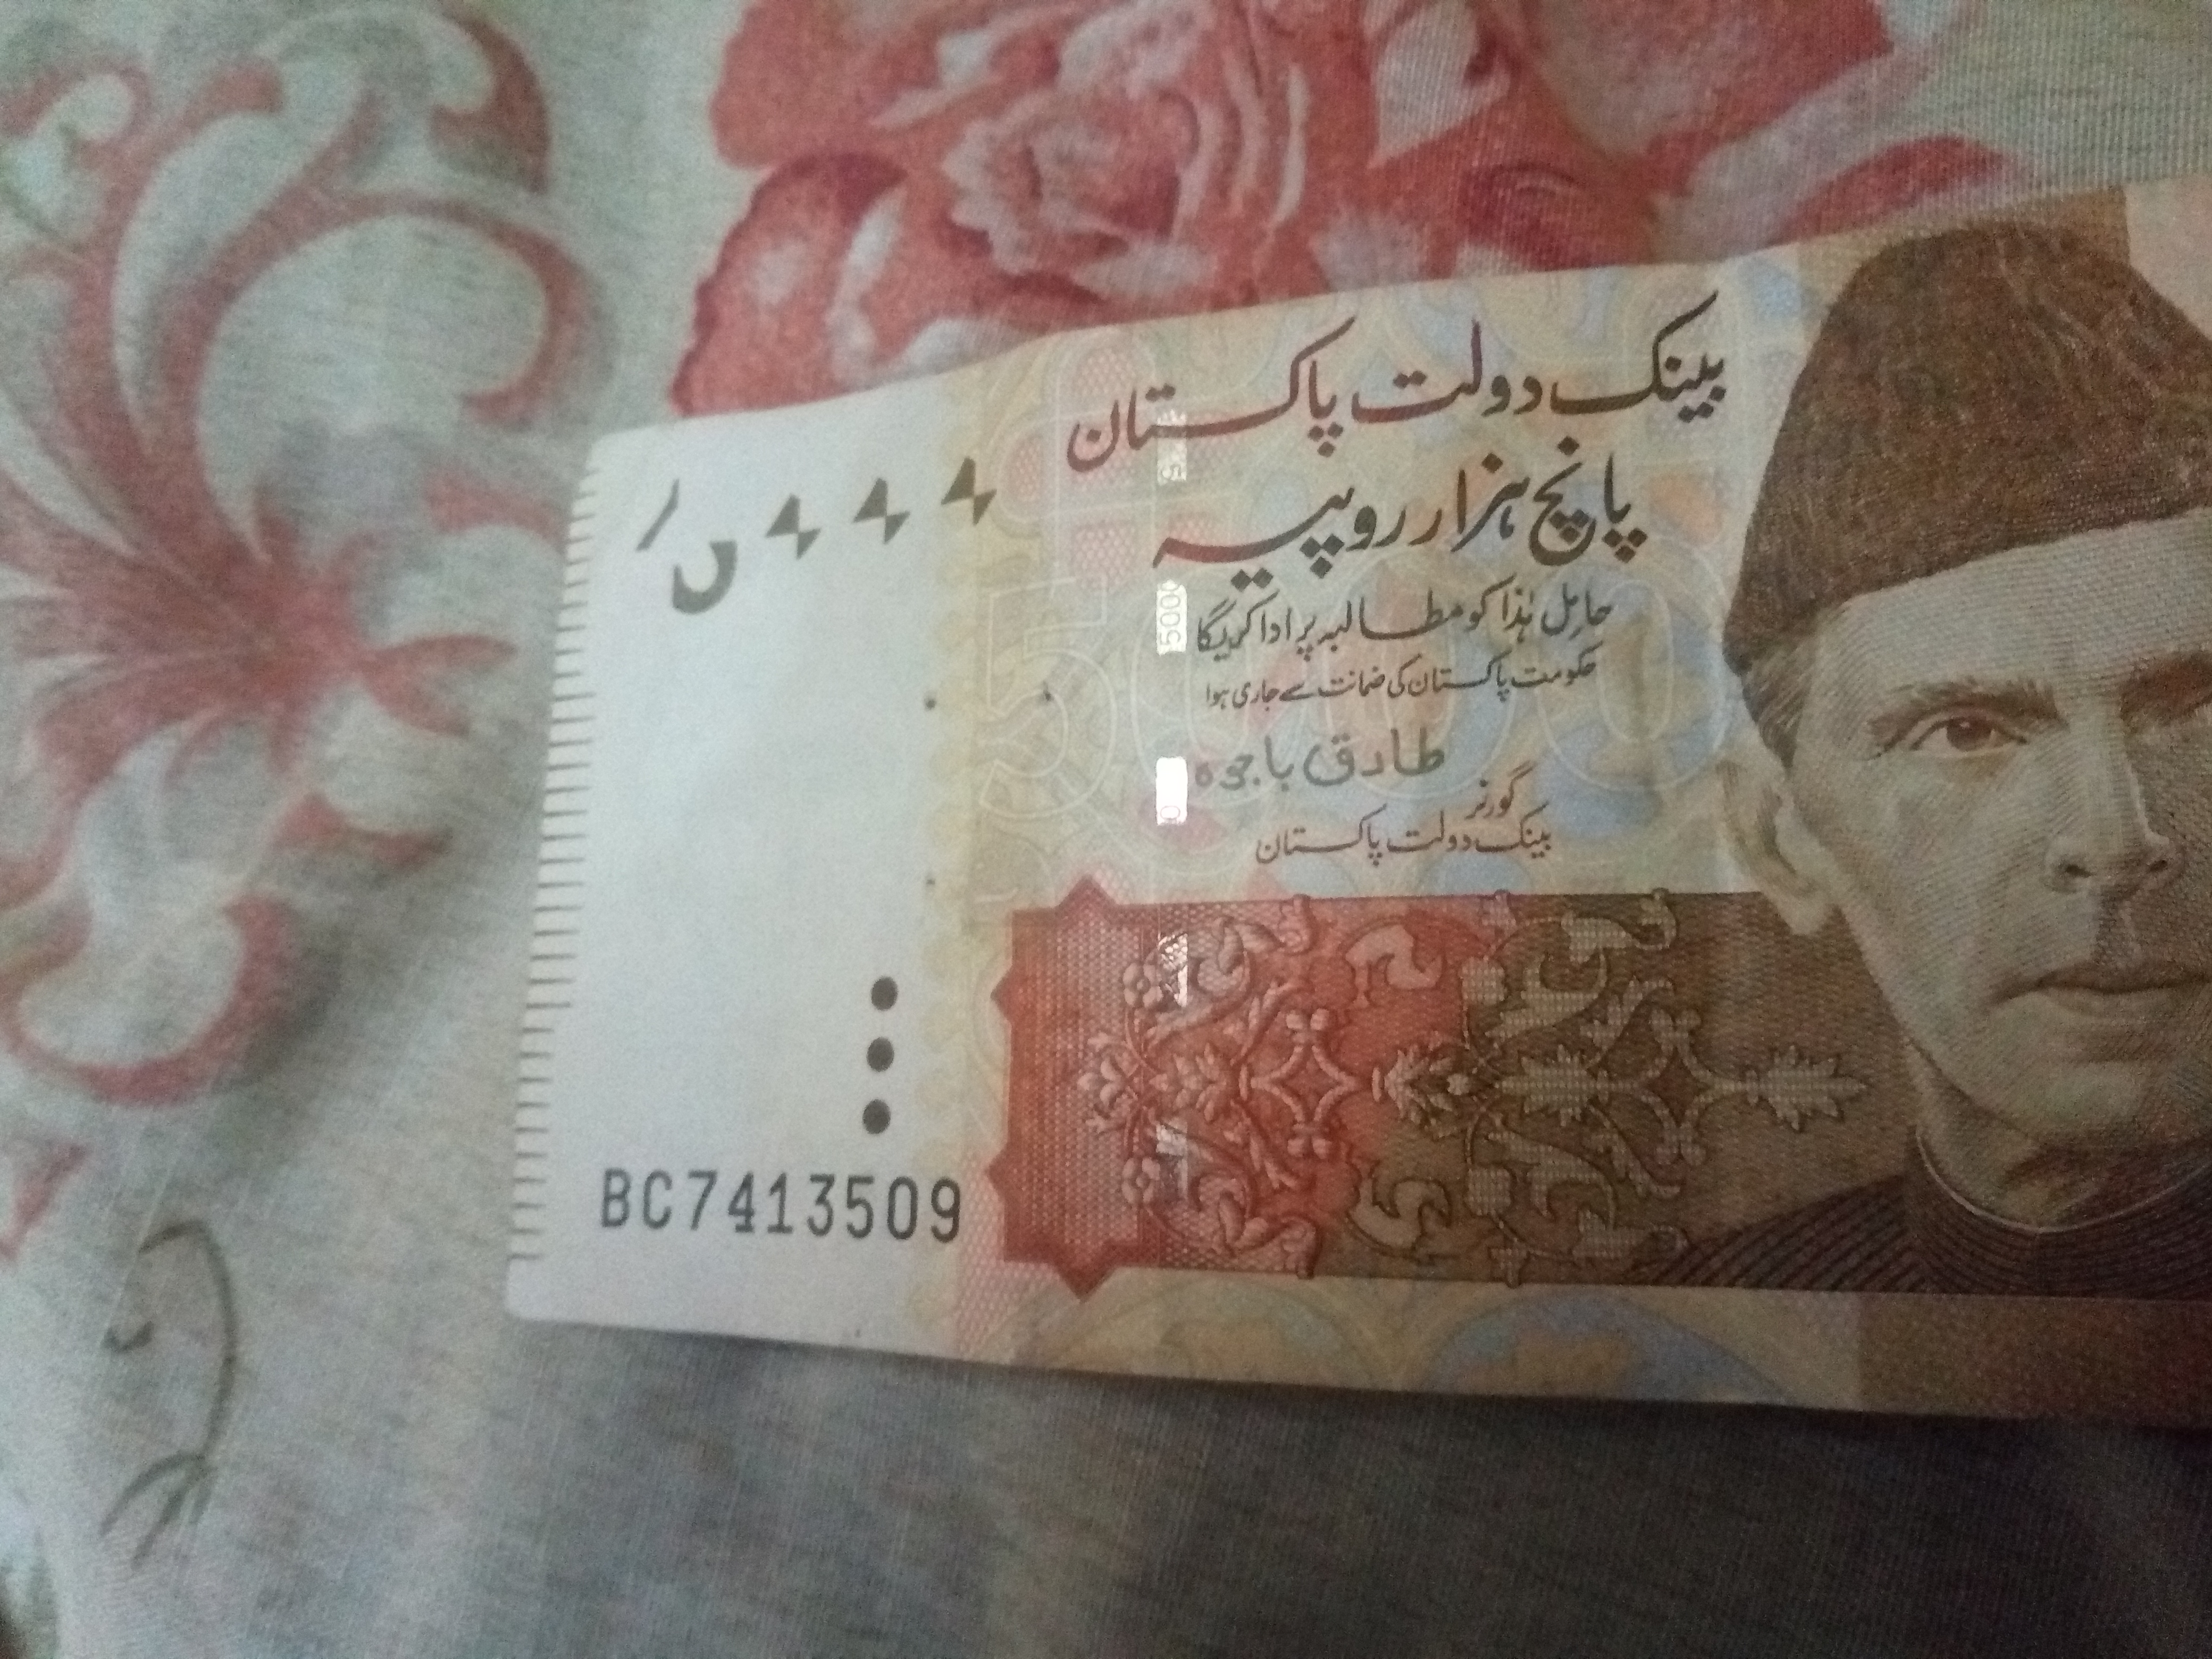5000 rupee: (484, 261, 2186, 1436)
